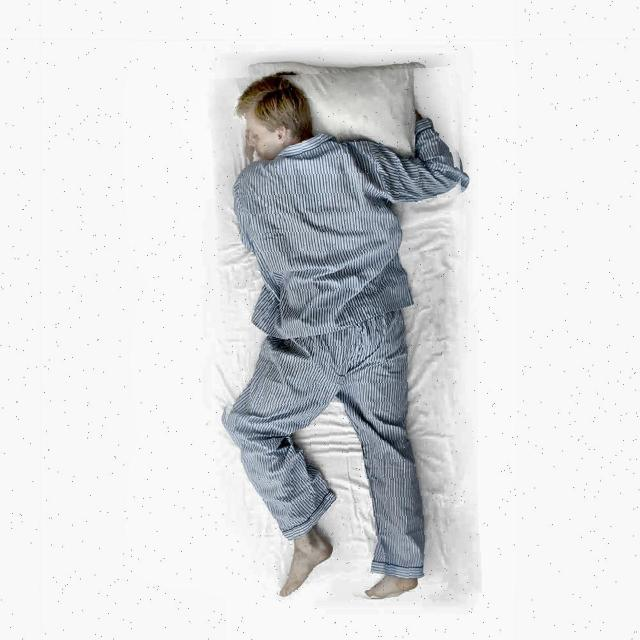Not_Supine: (227, 76, 460, 598)
